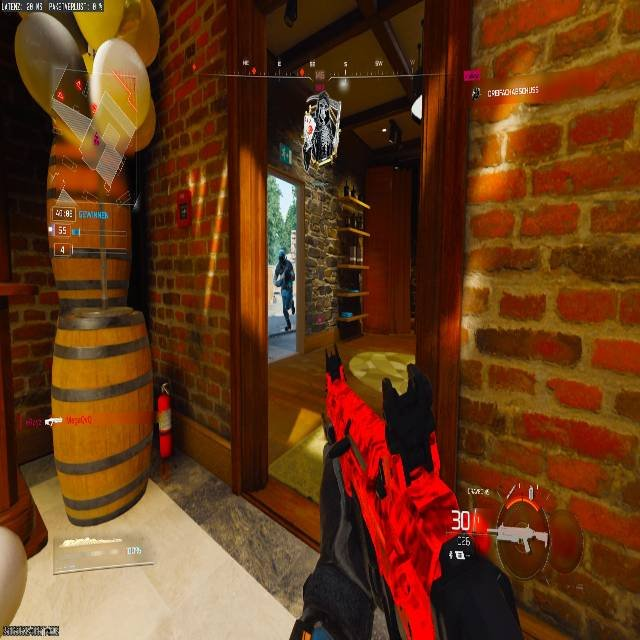head: (278, 250, 286, 261)
player: (302, 91, 339, 164), (274, 251, 295, 331)
